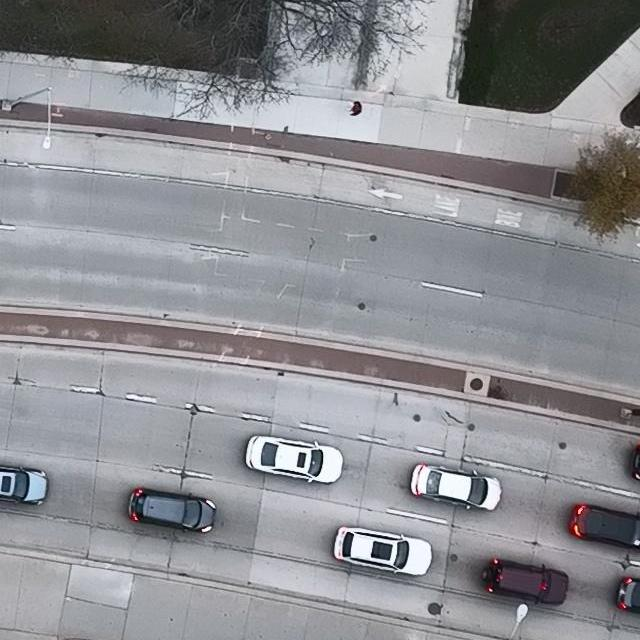car: (333, 526, 432, 576), (245, 435, 343, 485), (410, 462, 501, 512), (128, 488, 216, 534), (481, 558, 568, 604), (569, 504, 640, 551), (0, 465, 48, 506), (617, 577, 640, 612)
